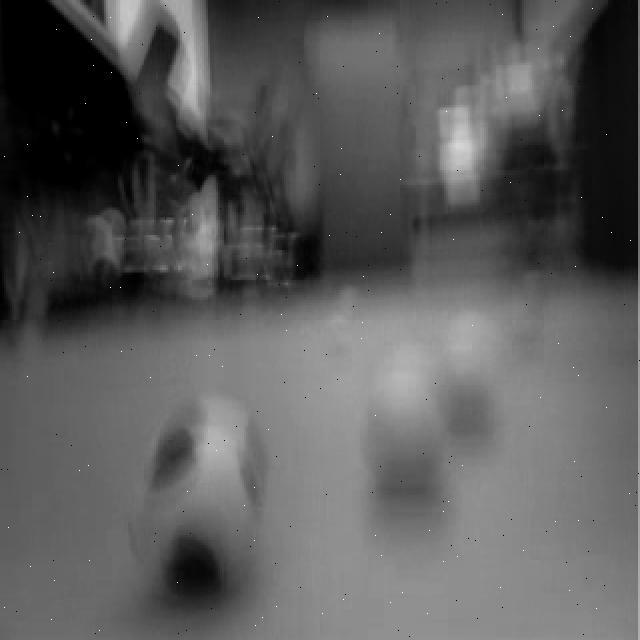ping-pong-ball: (123, 406, 274, 598), (353, 364, 452, 484), (438, 318, 509, 428)
